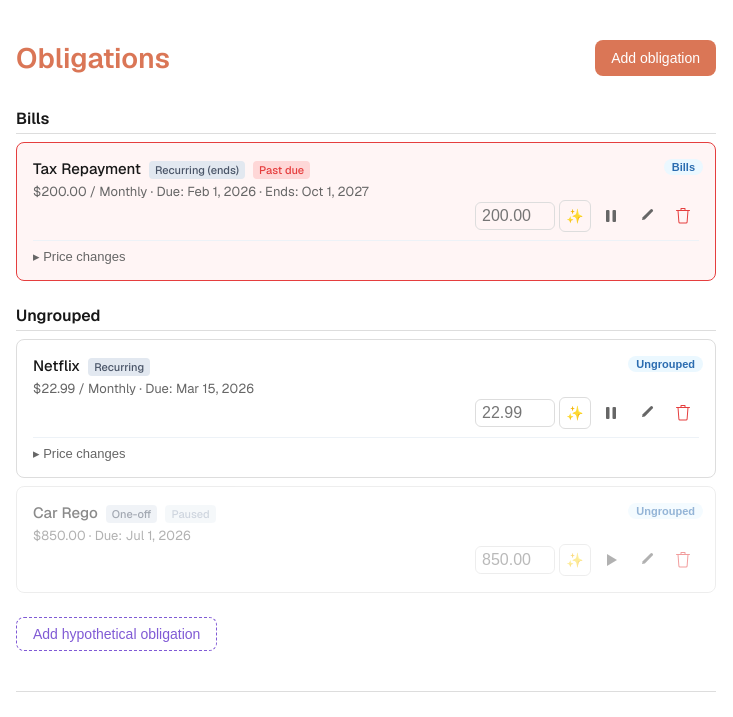
Test: ObligationsPage › shows EscalationForm when 'Add price change' is clicked
Expected: the text "Netflix" is shown, [33,356,80,375]
Click the button with aria-label "Toggle escalation rules for Netflix".
click(79, 454)  # box [33,446,126,461]
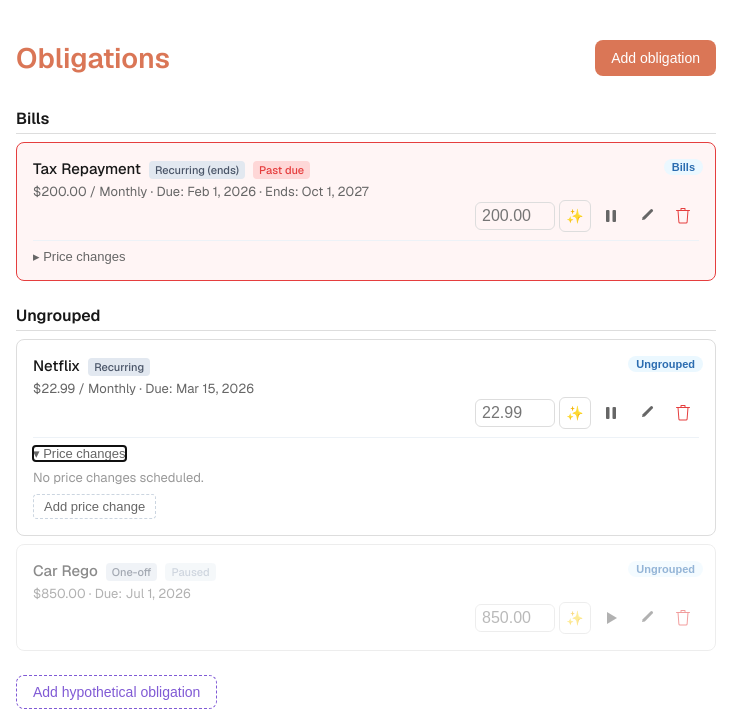
Expected: the button "Add price change" is shown
Click the button "Add price change".
click(95, 506)  # box [33,494,156,519]
(page scrolled)
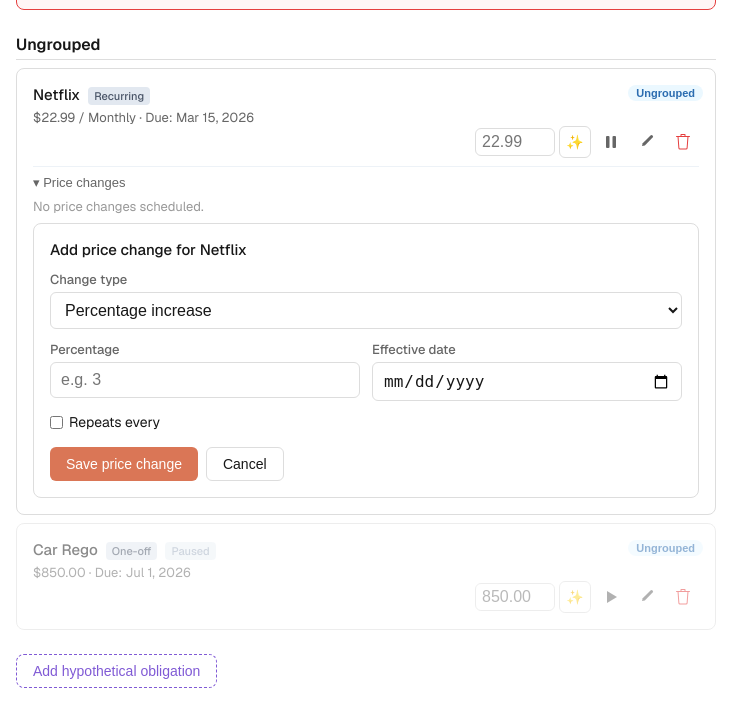
Expected: the element with test id "escalation-form" is shown, [33,223,699,498]
